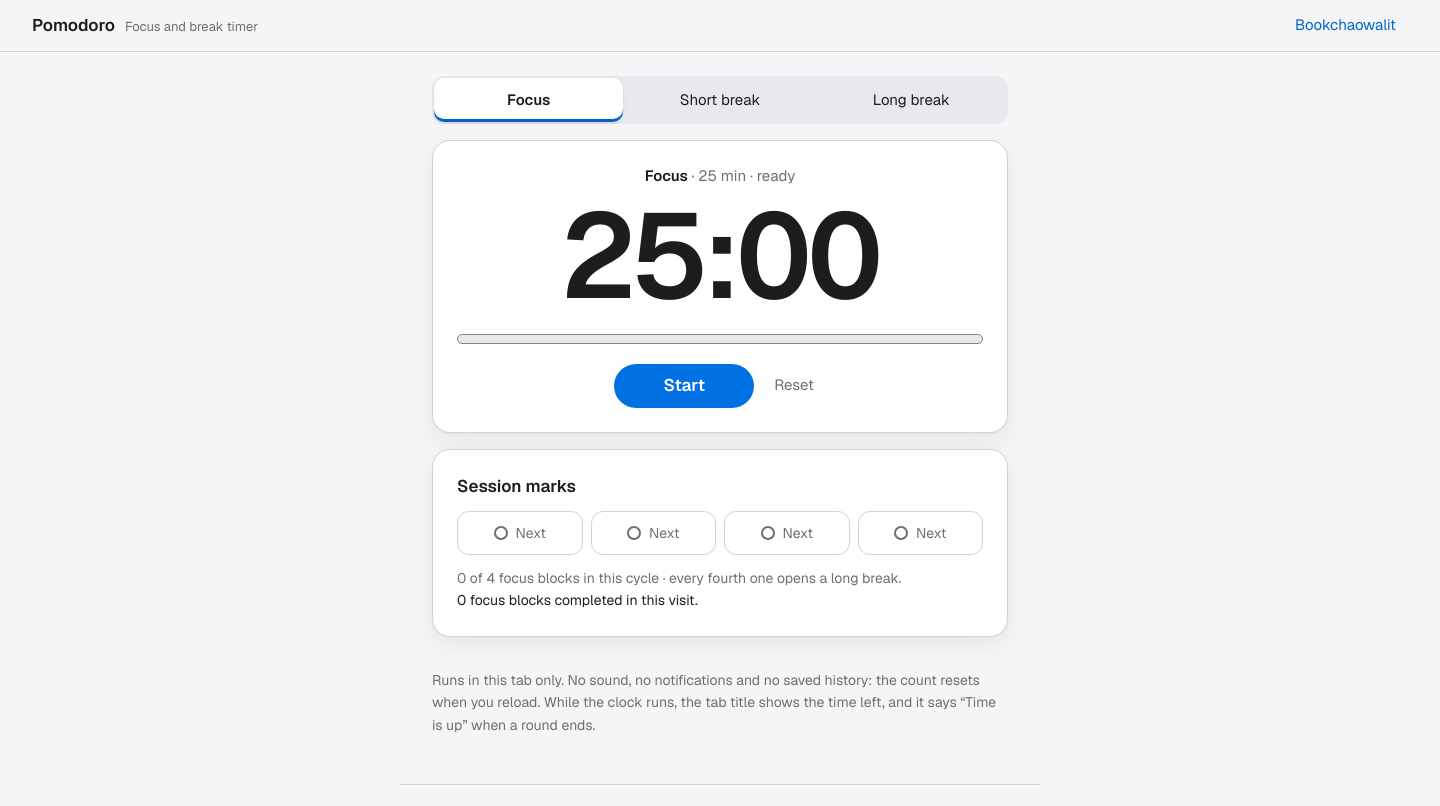
review 2026-11-18 › Reset during a round offers Undo, which brings the round back paused
This screenshot has width=1440, height=806.
Click the button "Start" at (684, 386), box [614, 364, 754, 408]
Wait 623000 ms
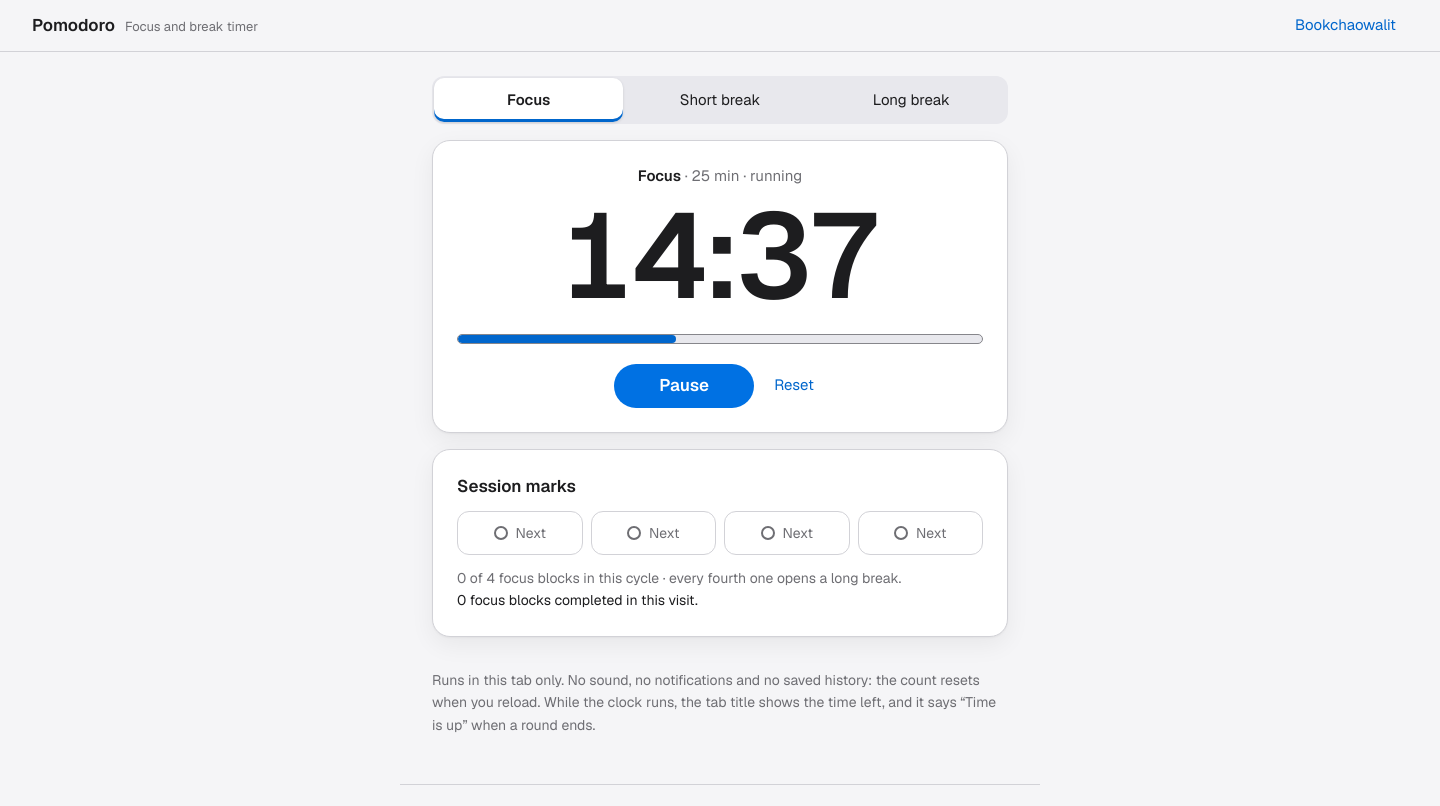
Click the button "Reset" at (794, 386), box [762, 364, 826, 408]
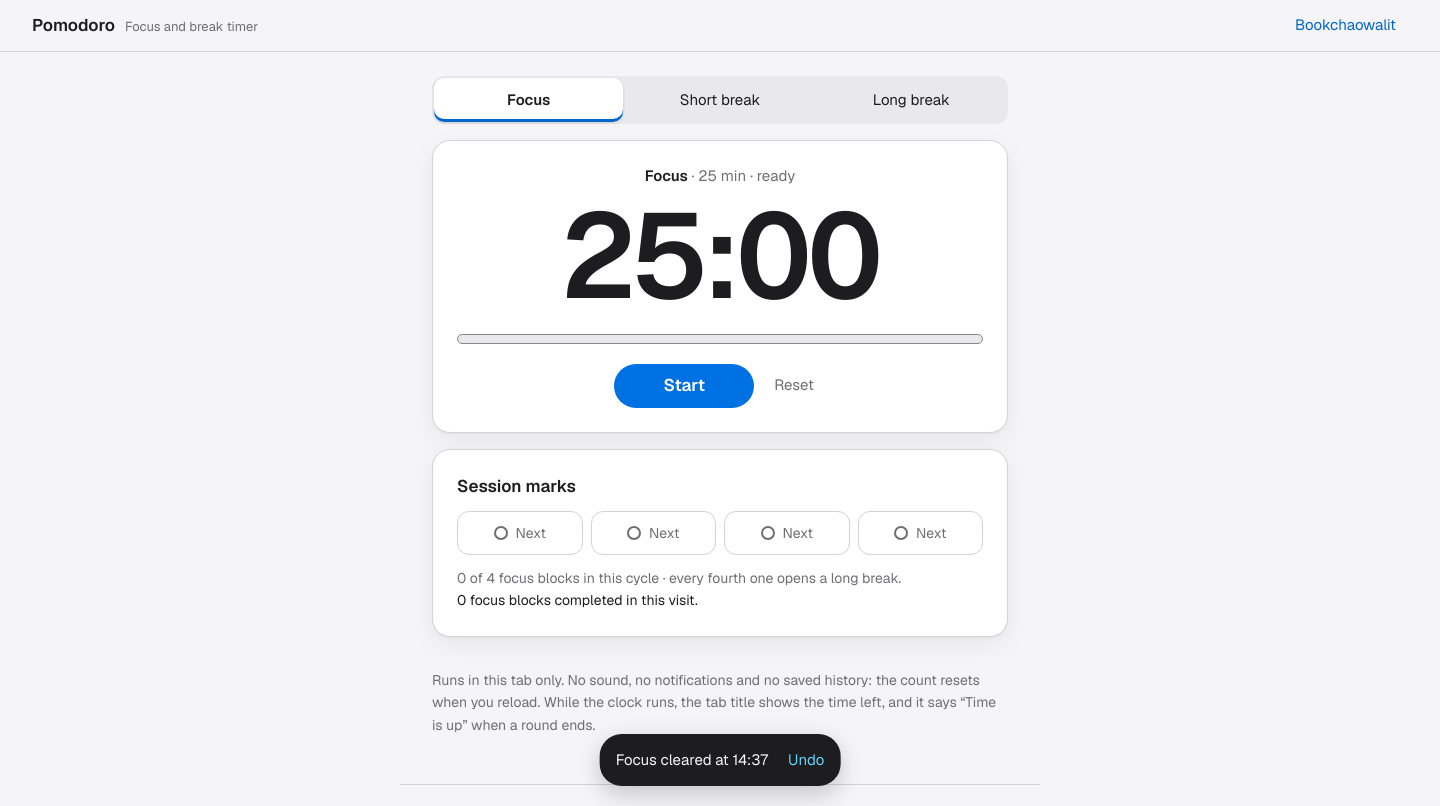
Result: the element with class "as-toast" shows "Focus cleared at 14:37" at [600, 734, 840, 786]
Click the button "Undo" at (806, 760), box [776, 738, 836, 782]
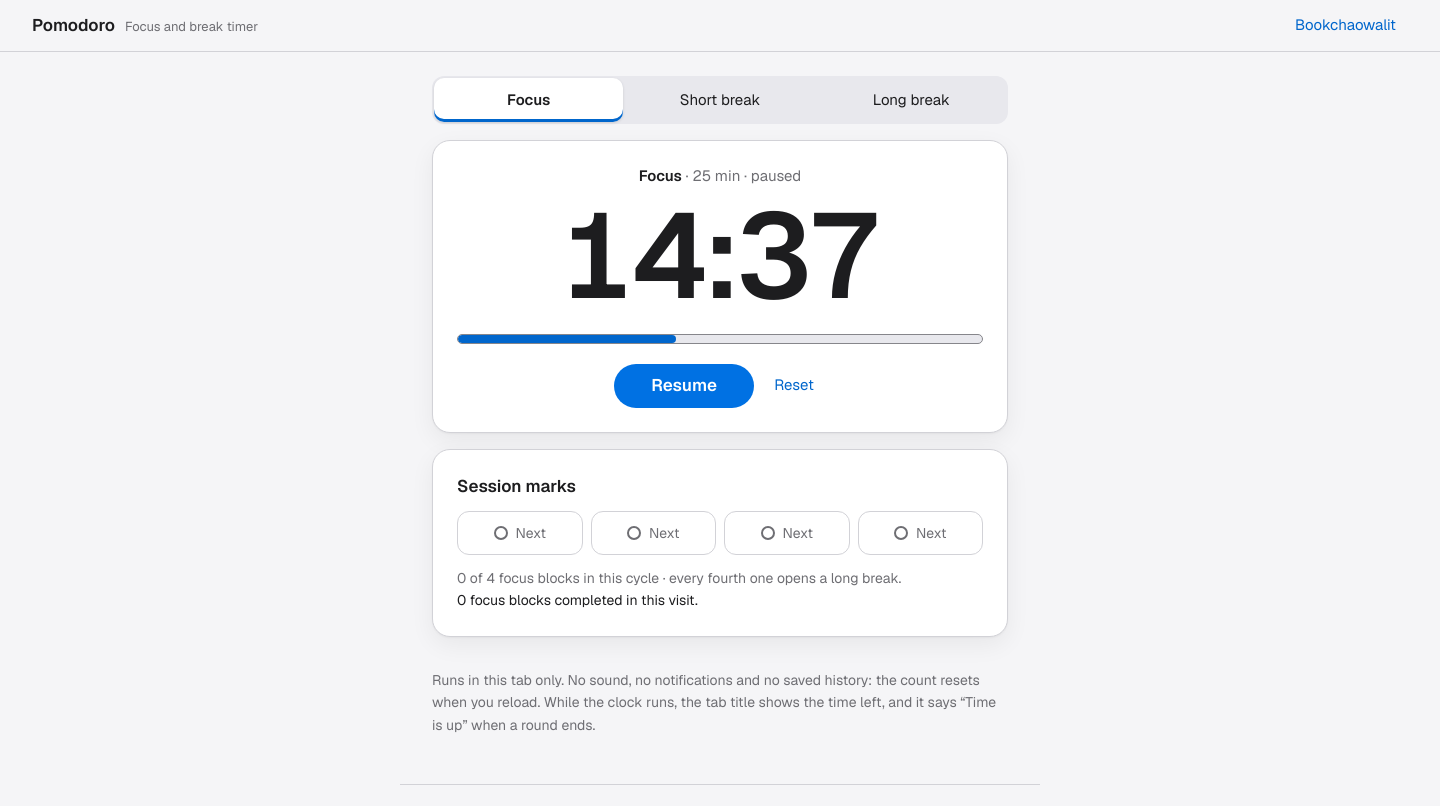
Expected: the button "Resume" is shown, [614, 364, 754, 408]
Result: the element with class "as-toast" is gone
